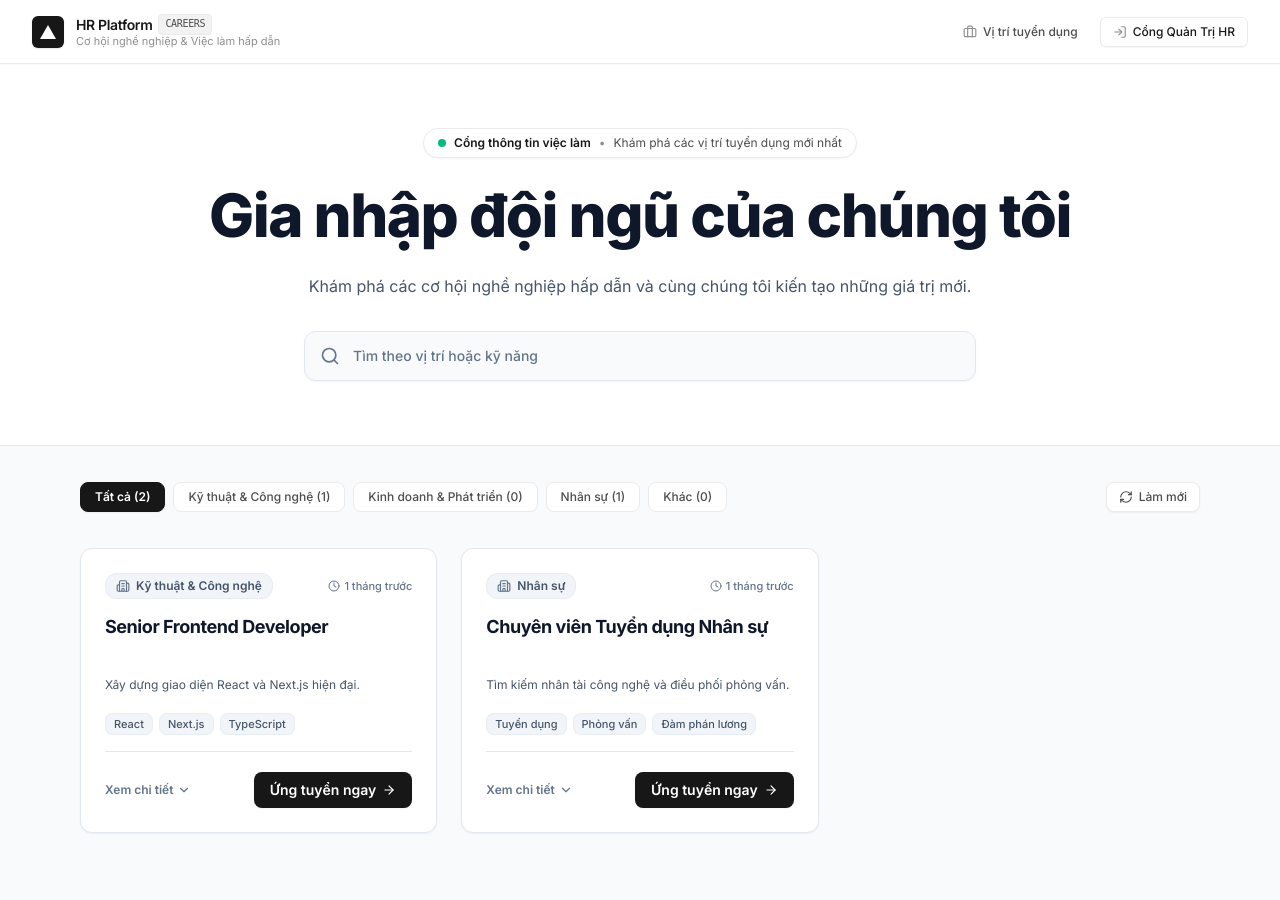
it: CareersClient › lọc danh sách việc làm theo phòng ban khi bấm nút filter
This screenshot has width=1280, height=900.
Bấm nút filter 'Nhân sự'
Click the button "Nhân sự (1)" at (593, 497), box [546,482,640,512]
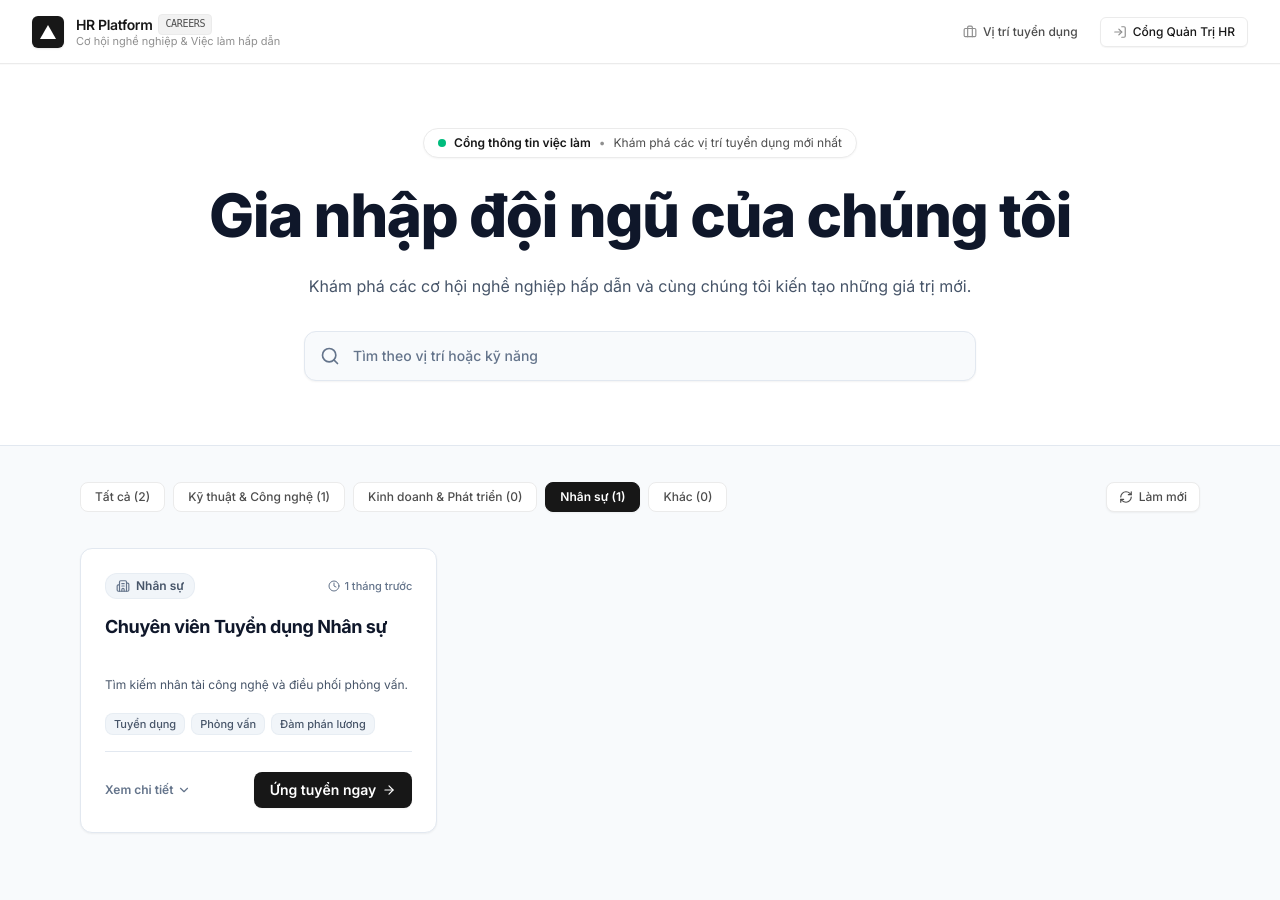
Check: the heading "Chuyên viên Tuyển dụng Nhân sự" is shown, box [105,616,387,637]
Check: the heading "Senior Frontend Developer" is gone
